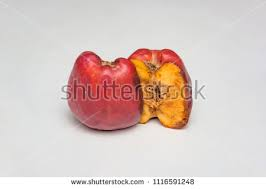damaged_apple: (67, 55, 150, 128), (128, 49, 196, 132)
